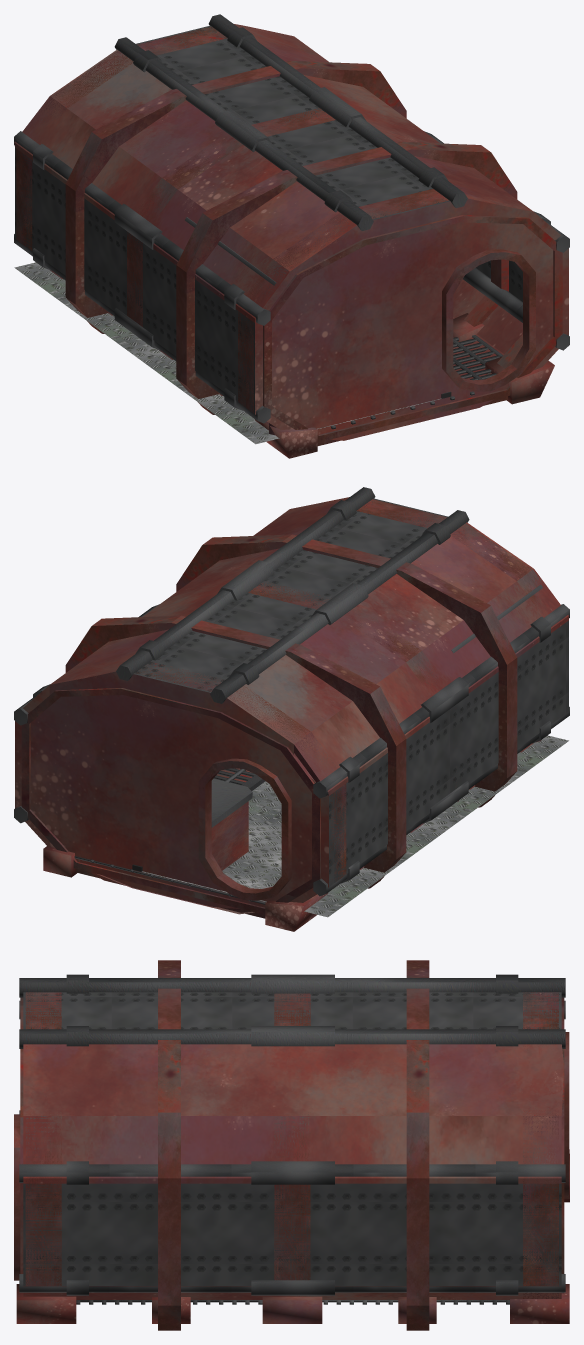
Rendered from Rest_Room.obj.
The picture shows the model from 3 angles, top to bottom: view 1: azimuth 30°, elevation 25°; view 2: azimuth 150°, elevation 25°; view 3: azimuth 270°, elevation 25°; orthographic projection. The views are drawn at different scales.
Visible parts, largest first — view 1: Cube.017; view 2: Cube.017; view 3: Cube.017.
Boxes of the visible parts, <box> form: Cube.017: <box>14,14,569,458</box>; Cube.017: <box>14,487,569,931</box>; Cube.017: <box>14,960,569,1330</box>.
Size of the model in its own units: 6.32 by 4.43 by 8.2.
